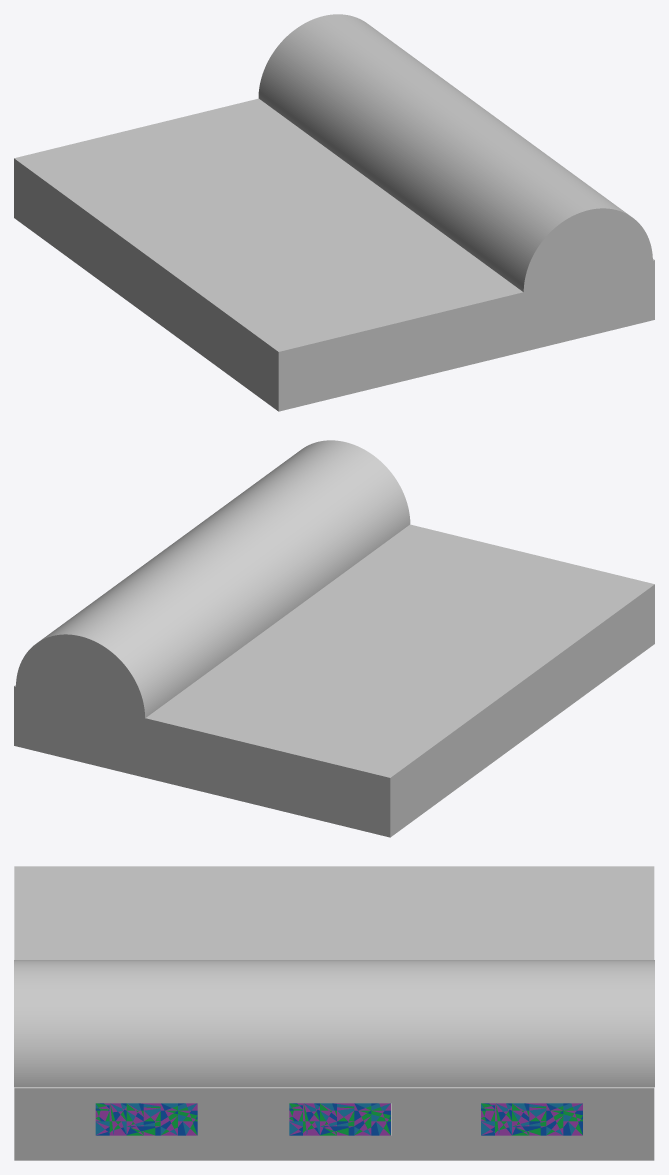
Rendered from stain_glass.fbx.
The picture shows the model from 3 angles, top to bottom: view 1: azimuth 30°, elevation 25°; view 2: azimuth 150°, elevation 25°; view 3: azimuth 270°, elevation 25°; orthographic projection. The views are drawn at different scales.
Parts seen in each view (by area): view 1: Cube.031, Cylinder; view 2: Cube.031, Cylinder; view 3: Cube.031, Cylinder, purple.002, purple, purple.001, green.002, green, green.001, blue.002, blue, blue.001, lightblue.002 (+2 smaller).
Part boxes in pixels (box(x1,y1,x2,y2)): Cube.031: box(14, 98, 654, 411); Cylinder: box(258, 14, 652, 292); Cube.031: box(14, 524, 654, 837); Cylinder: box(16, 440, 410, 718); Cube.031: box(14, 866, 654, 1160); Cylinder: box(14, 960, 654, 1087); purple.002: box(95, 1103, 197, 1135); purple: box(481, 1103, 582, 1135); purple.001: box(289, 1103, 390, 1135); green.002: box(96, 1103, 197, 1135); green: box(481, 1103, 582, 1135); green.001: box(289, 1103, 390, 1135); blue.002: box(95, 1103, 196, 1135); blue: box(481, 1103, 582, 1135); blue.001: box(289, 1103, 390, 1135); lightblue.002: box(95, 1103, 197, 1135).
Bounding box in the file's own units: 11762 × 3766 × 14356.
